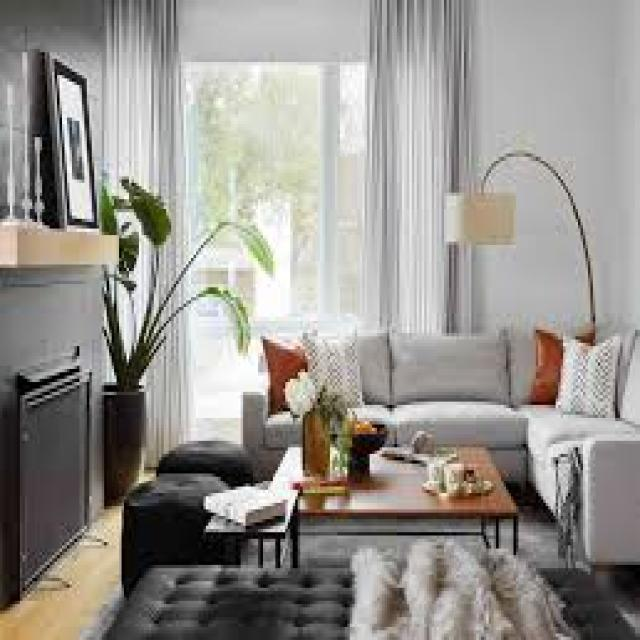Lamp: (443, 100, 603, 335)
Sofa: (256, 292, 640, 563), (84, 539, 603, 640)
Table: (254, 425, 519, 570)
